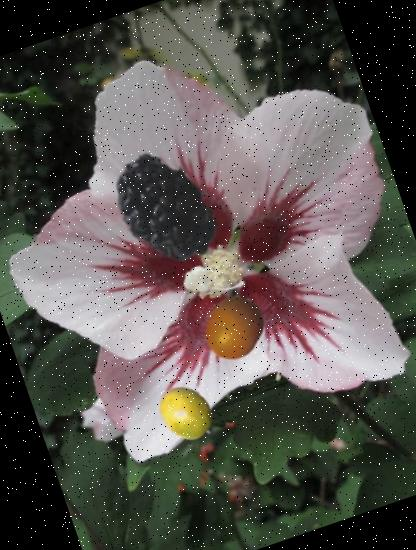Grapefruit: (193, 286, 276, 369)
Maracuja: (148, 374, 228, 452)
Mulberry: (68, 128, 237, 298)
